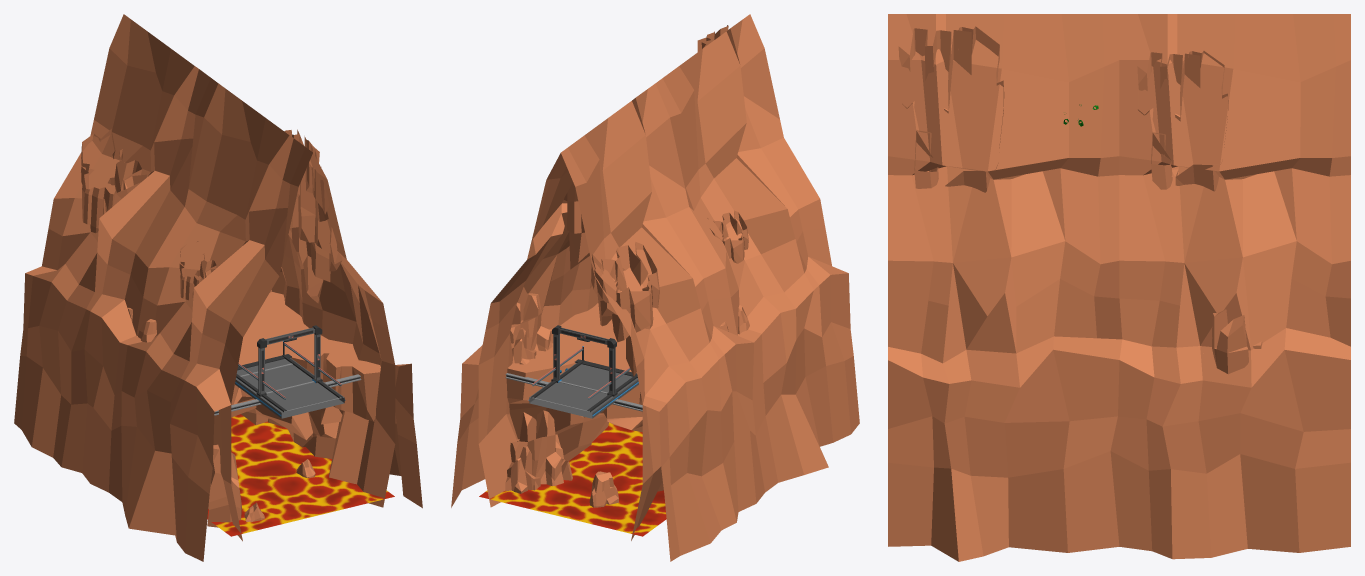
The model's file is Cavern_Large_Straight_Tunnel.fbx.
3 views of the same model, side by side, from view 1: azimuth 30°, elevation 25°; view 2: azimuth 150°, elevation 25°; view 3: azimuth 270°, elevation 25° (orthographic). The views are drawn at different scales.
Parts seen in each view (by area): view 1: Cavern_Large_Straight_Tunnel, Cavern_Large_Straight_Tunnel_W, Cavern_Large_Straight_Tunnel_E; view 2: Cavern_Large_Straight_Tunnel, Cavern_Large_Straight_Tunnel_W, Cavern_Large_Straight_Tunnel_E; view 3: Cavern_Large_Straight_Tunnel_E, Cavern_Large_Straight_Tunnel.
Boxes of the visible parts, x1=… form: Cavern_Large_Straight_Tunnel: x1=14, y1=264, x2=422, y2=561; Cavern_Large_Straight_Tunnel_W: x1=42, y1=14, x2=312, y2=404; Cavern_Large_Straight_Tunnel_E: x1=280, y1=129, x2=394, y2=364; Cavern_Large_Straight_Tunnel: x1=451, y1=256, x2=859, y2=561; Cavern_Large_Straight_Tunnel_W: x1=561, y1=14, x2=831, y2=404; Cavern_Large_Straight_Tunnel_E: x1=479, y1=25, x2=728, y2=364; Cavern_Large_Straight_Tunnel_E: x1=888, y1=14, x2=1350, y2=363; Cavern_Large_Straight_Tunnel: x1=888, y1=308, x2=1350, y2=561.
Bounding box in the file's own units: 2114 × 2897 × 2600.
